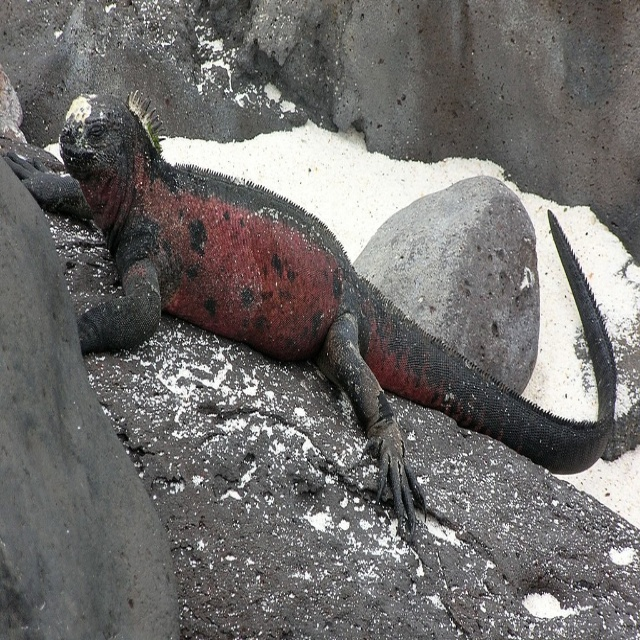Lizard: (65, 98, 640, 576)
